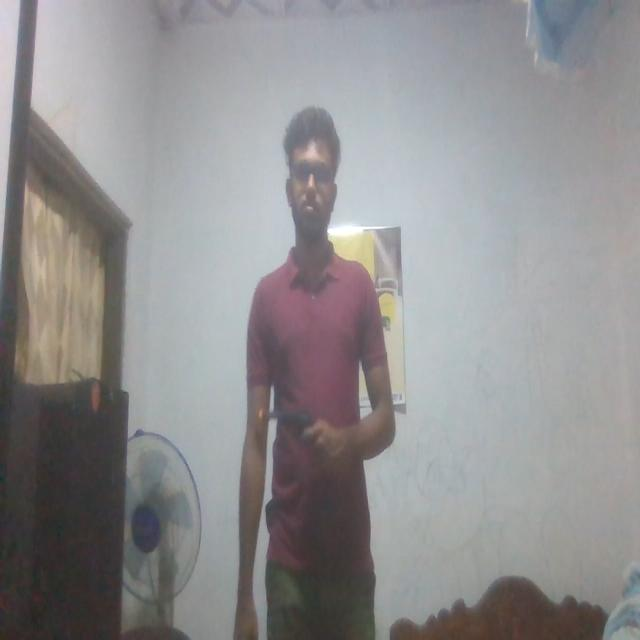Gun_Holder: (258, 403, 338, 472)
Person: (233, 106, 401, 640)
